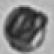correct: (4, 4, 47, 52)
